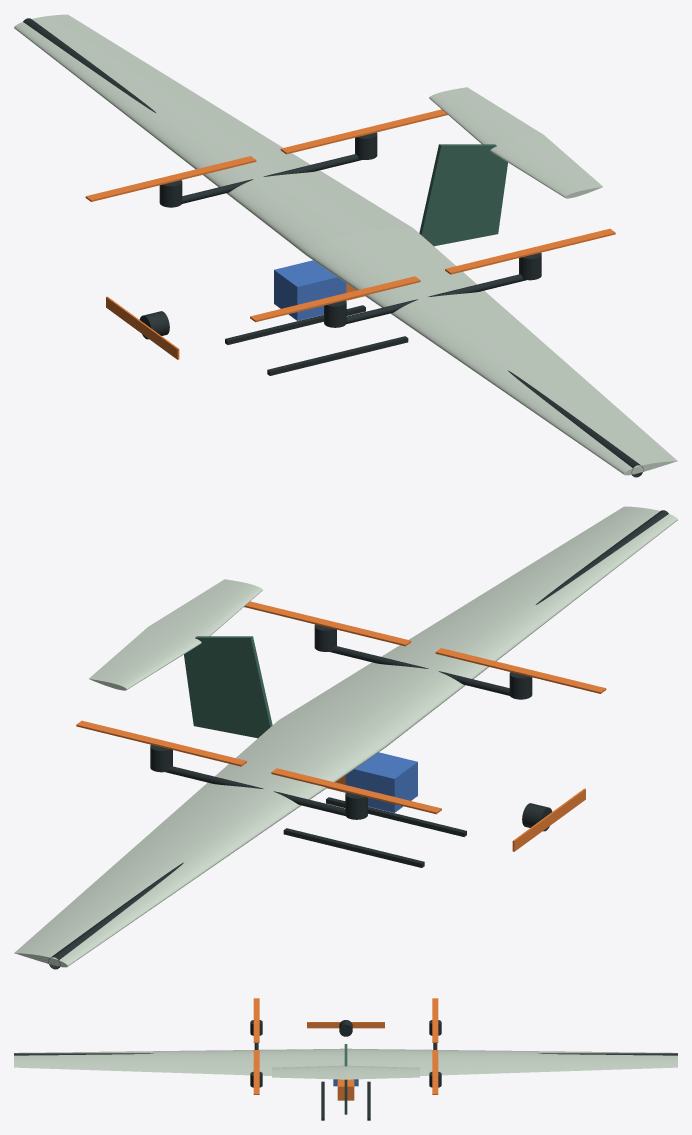
The model's file is 08-internal.glb.
The picture shows the model from 3 angles, top to bottom: view 1: azimuth 30°, elevation 25°; view 2: azimuth 150°, elevation 25°; view 3: azimuth 270°, elevation 25°; orthographic projection. The views are drawn at different scales.
Parts seen in each view (by area): view 1: wing-1, wing1, fin, tail-1, tail1, payload, wing_spar, prop_-1_700.0, prop_1_220.0, prop_-1_220.0, prop_1_700.0, boom-1 (+4 smaller); view 2: wing1, wing-1, fin, tail1, tail-1, payload, wing_spar, prop_1_700.0, prop_-1_220.0, prop_1_220.0, prop_-1_700.0, boom1 (+4 smaller); view 3: wing-1, wing1, tail-1, tail1, wing_spar, cruise_prop, battery, prop_-1_220.0, prop_-1_700.0, prop_1_220.0, prop_1_700.0, fin.
Part boxes in pixels (bbox=[...]): wing-1: bbox=[305, 228, 677, 475]; wing1: bbox=[14, 14, 412, 254]; fin: bbox=[419, 144, 507, 246]; tail-1: bbox=[490, 134, 602, 198]; tail1: bbox=[429, 87, 543, 144]; payload: bbox=[274, 260, 346, 320]; wing_spar: bbox=[23, 18, 643, 477]; prop_-1_700.0: bbox=[445, 228, 615, 274]; prop_1_220.0: bbox=[85, 156, 256, 201]; prop_-1_220.0: bbox=[250, 276, 420, 322]; prop_1_700.0: bbox=[280, 109, 447, 154]; boom-1: bbox=[346, 274, 526, 323]; wing1: bbox=[14, 720, 386, 967]; wing-1: bbox=[279, 506, 677, 746]; fin: bbox=[184, 636, 272, 738]; tail1: bbox=[89, 626, 201, 690]; tail-1: bbox=[148, 579, 262, 636]; payload: bbox=[345, 752, 417, 812]; wing_spar: bbox=[48, 510, 668, 969]; prop_1_700.0: bbox=[76, 720, 246, 766]; prop_-1_220.0: bbox=[435, 648, 606, 693]; prop_1_220.0: bbox=[271, 768, 441, 814]; prop_-1_700.0: bbox=[244, 601, 411, 646]; boom1: bbox=[165, 766, 345, 815]; wing-1: bbox=[14, 1048, 344, 1075]; wing1: bbox=[347, 1048, 677, 1075]; tail-1: bbox=[272, 1065, 345, 1079]; tail1: bbox=[346, 1065, 419, 1079]; wing_spar: bbox=[14, 1053, 677, 1055]; cruise_prop: bbox=[307, 1022, 384, 1028]; battery: bbox=[337, 1079, 354, 1100]; prop_-1_220.0: bbox=[253, 998, 259, 1042]; prop_-1_700.0: bbox=[253, 1050, 259, 1094]; prop_1_220.0: bbox=[432, 998, 438, 1042]; prop_1_700.0: bbox=[432, 1050, 438, 1094]; fin: bbox=[344, 1044, 347, 1114].
Bounding box in the file's own units: 989 × 394 × 2600.
